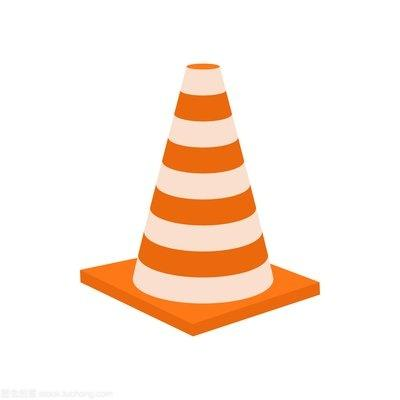cone_barrel: (125, 58, 278, 305)
